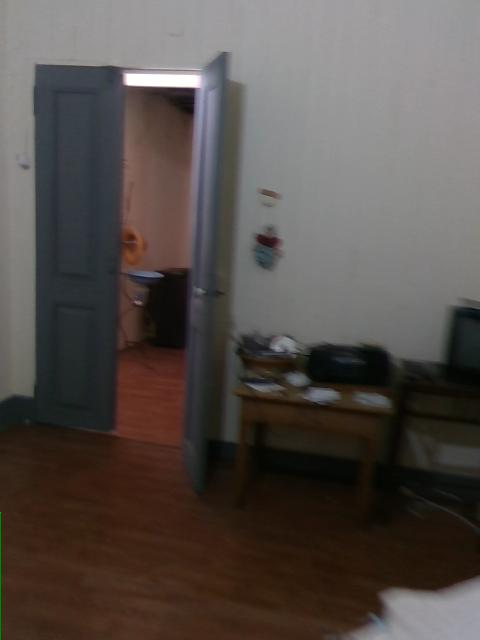door: (34, 57, 123, 433), (185, 49, 229, 492)
